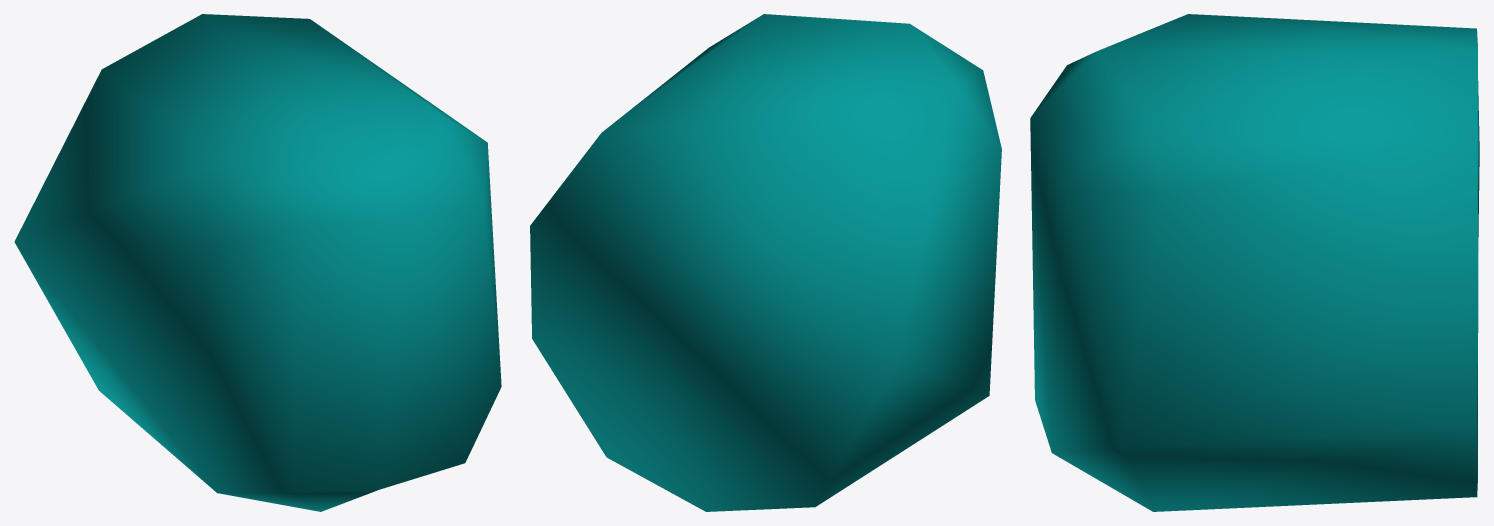
Rendered from 6a12000_halsmitte_t12_col.obj.
3 views of the same model, side by side, from view 1: azimuth 30°, elevation 25°; view 2: azimuth 150°, elevation 25°; view 3: azimuth 270°, elevation 25° (orthographic). The views are drawn at different scales.
Bounding box in the file's own units: 0.1404 × 0.1401 × 0.1344.
